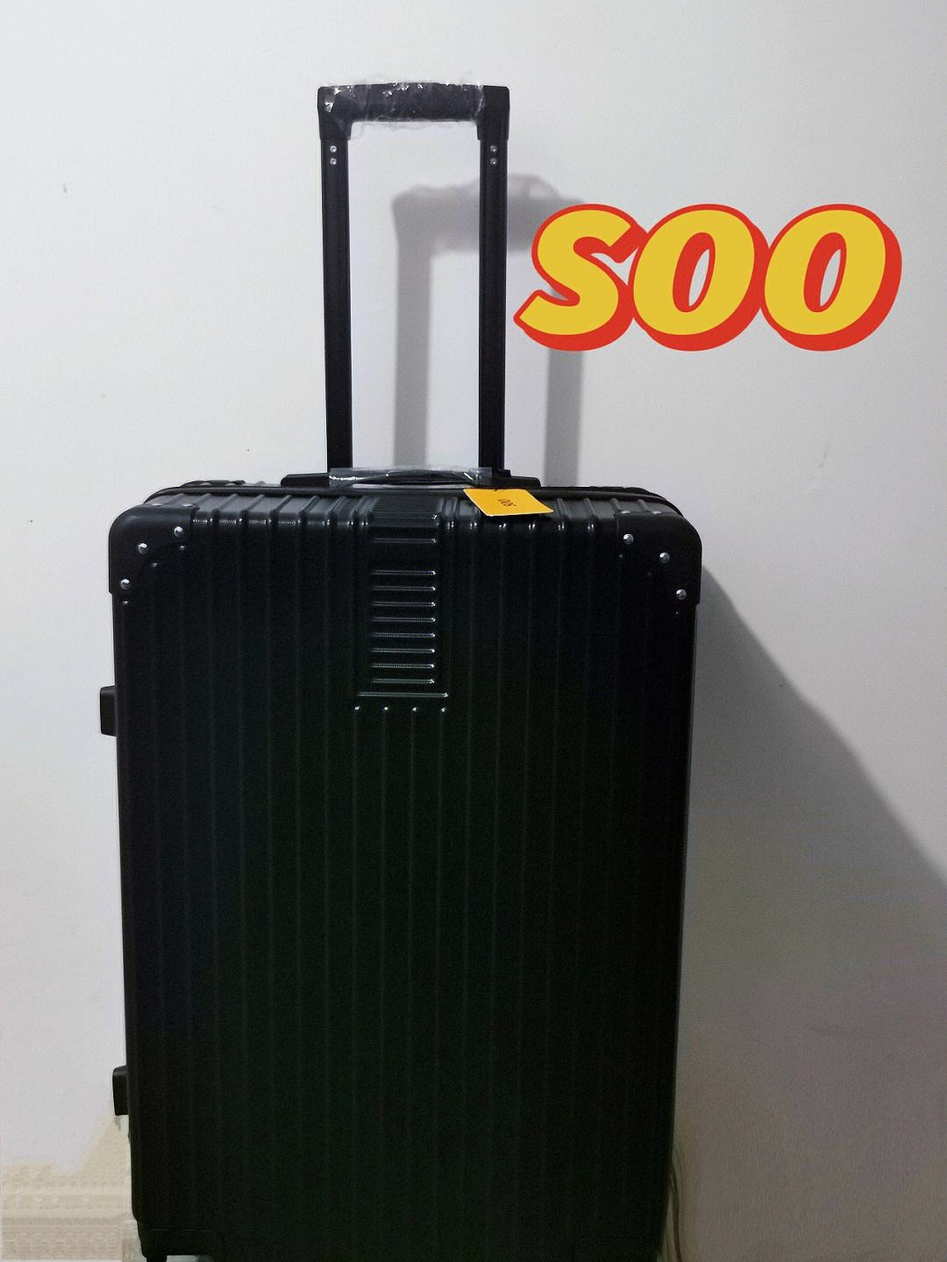box: (106, 479, 703, 1262)
handle: (280, 469, 545, 496)
